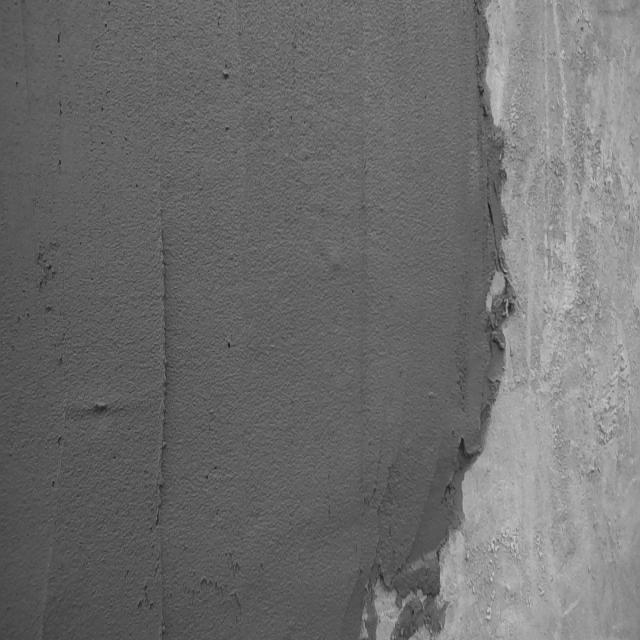trowels marks: (152, 207, 171, 548)
